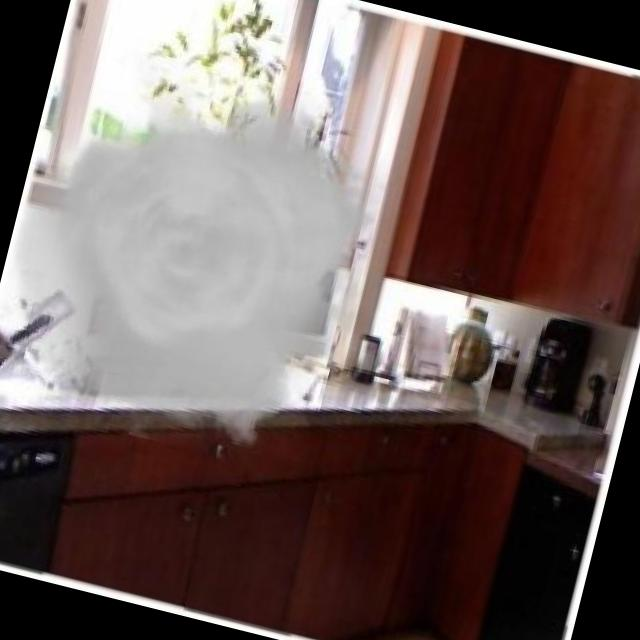Smoke: (18, 72, 396, 475)
